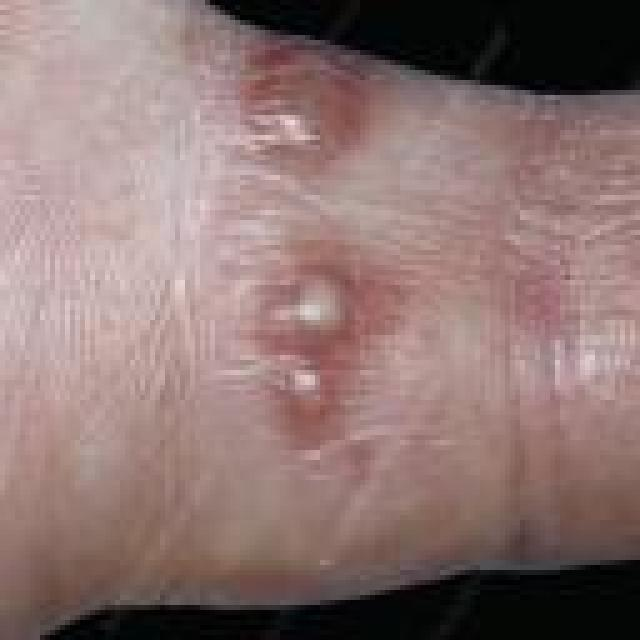Shingles: (261, 258, 366, 418), (244, 36, 362, 165)
